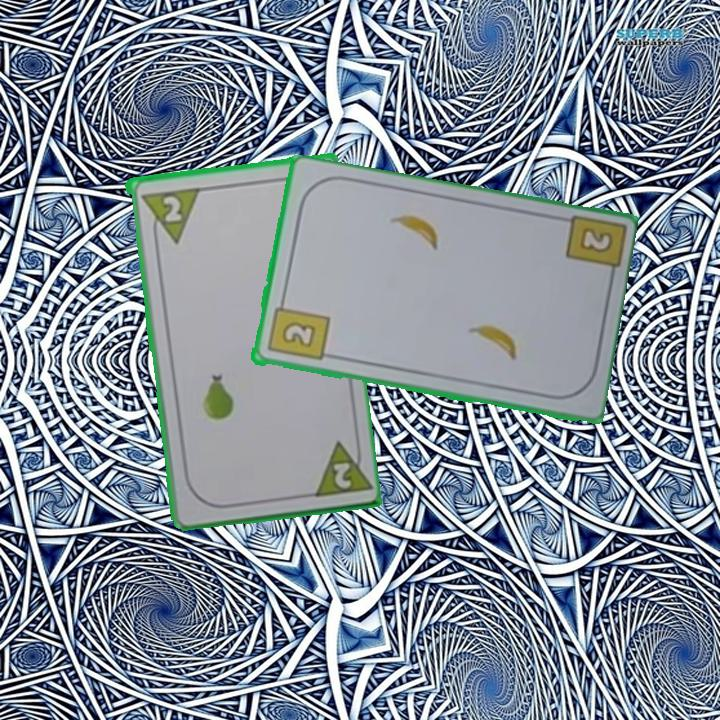2b: (263, 295, 331, 364), (579, 227, 612, 254)
2p: (158, 192, 184, 225), (329, 458, 354, 492)
